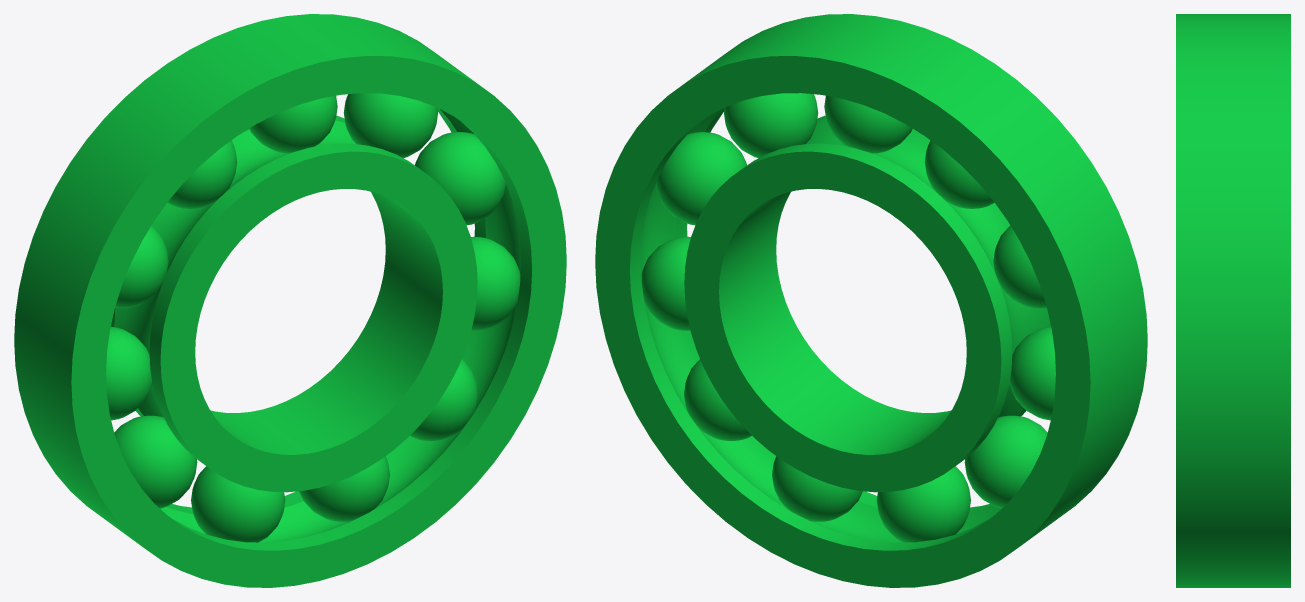
The model's file is Rolamento2.glb.
3 views of the same model, side by side, from view 1: azimuth 30°, elevation 25°; view 2: azimuth 150°, elevation 25°; view 3: azimuth 270°, elevation 25° (orthographic).
Visible parts, largest first — view 1: mesh_id4, mesh_id5, mesh_id8, mesh_id12, mesh_id13, mesh_id7, mesh_id9, mesh_id14, mesh_id11, mesh_id6, mesh_id10, mesh_id15 (+1 smaller); view 2: mesh_id4, mesh_id5, mesh_id8, mesh_id12, mesh_id13, mesh_id7, mesh_id9, mesh_id14, mesh_id11, mesh_id6, mesh_id10, mesh_id15 (+1 smaller); view 3: mesh_id4.
Boxes of the visible parts, x1,y1,x2,y2 form: mesh_id4: [14, 14, 566, 587]; mesh_id5: [111, 115, 477, 492]; mesh_id8: [415, 132, 505, 225]; mesh_id12: [191, 466, 285, 542]; mesh_id13: [114, 415, 197, 508]; mesh_id7: [343, 93, 437, 158]; mesh_id9: [471, 236, 520, 330]; mesh_id14: [106, 326, 152, 420]; mesh_id11: [299, 456, 389, 521]; mesh_id6: [249, 95, 337, 153]; mesh_id10: [410, 359, 477, 440]; mesh_id15: [115, 225, 168, 308]; mesh_id4: [595, 14, 1147, 587]; mesh_id5: [684, 115, 1050, 492]; mesh_id8: [656, 132, 746, 225]; mesh_id12: [876, 466, 970, 542]; mesh_id13: [964, 415, 1047, 508]; mesh_id7: [724, 93, 818, 158]; mesh_id9: [641, 236, 690, 330]; mesh_id14: [1009, 326, 1055, 420]; mesh_id11: [772, 456, 862, 521]; mesh_id6: [824, 95, 912, 153]; mesh_id10: [684, 359, 751, 440]; mesh_id15: [993, 225, 1046, 308]; mesh_id4: [1176, 14, 1290, 587].
Size of the model in its own units: 0.512 by 0.512 by 0.1024.
Materials: 13 (13 with a texture image).
